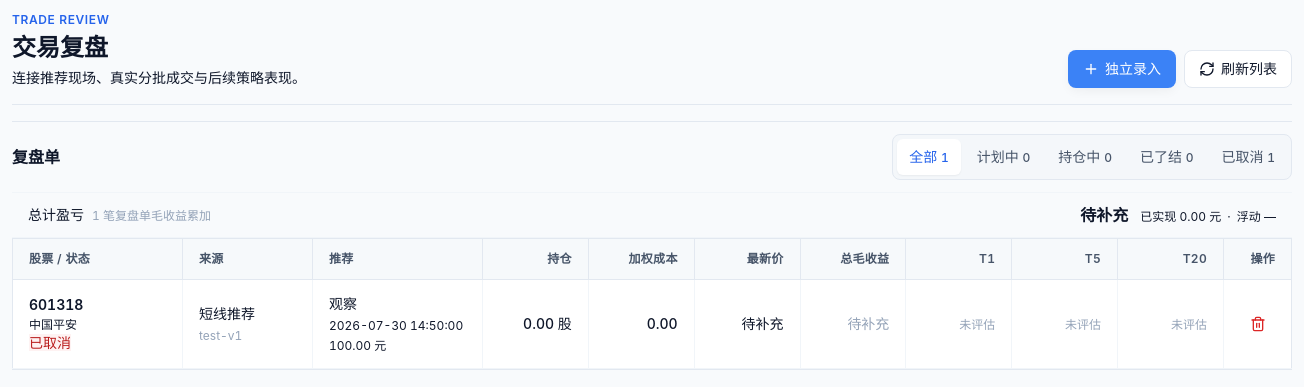
Test: TradeReviewPage case removal › deletes a cancelled zero-position case from the review list
Click the button named "删除关注 601318". click: [1258, 324]
box: [1240,306,1276,342]
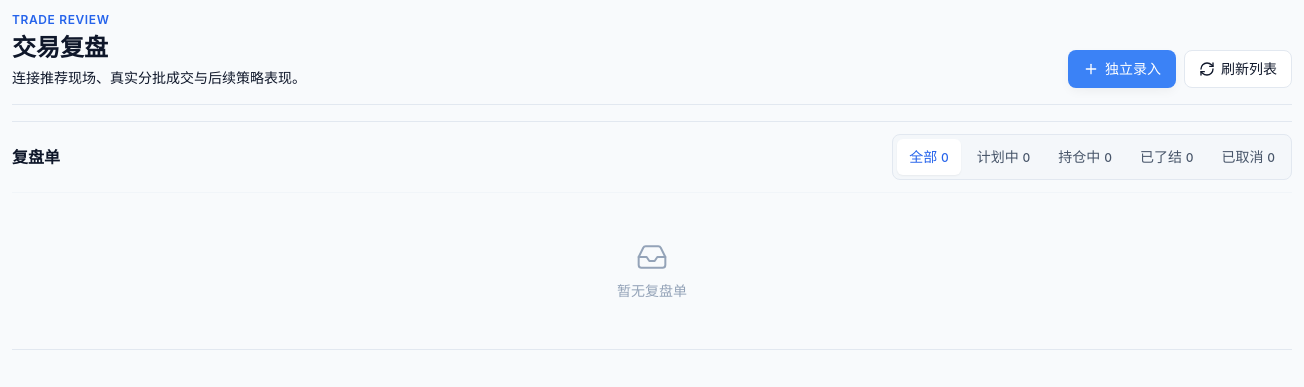
Now the text "601318" is gone
